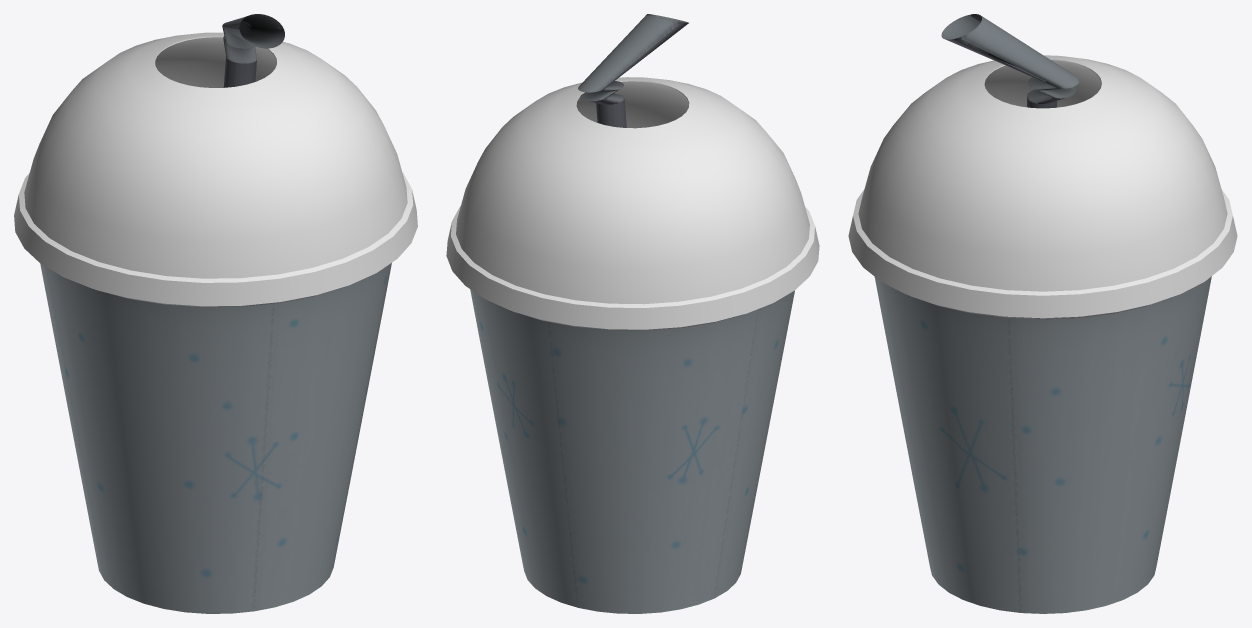
File: BasoGranizado.fbx
3 renders of one model, left to right at view 1: azimuth 30°, elevation 25°; view 2: azimuth 150°, elevation 25°; view 3: azimuth 270°, elevation 25°, orthographic. The views are drawn at different scales.
Visible parts, largest first — view 1: CUP, TapaCUP, Pajita; view 2: CUP, TapaCUP, Pajita; view 3: CUP, TapaCUP, Pajita.
Boxes of the visible parts, left/top/right/bottom form: CUP: left=40, top=263, right=391, bottom=613; TapaCUP: left=14, top=32, right=417, bottom=306; Pajita: left=222, top=14, right=284, bottom=87; CUP: left=470, top=289, right=794, bottom=613; TapaCUP: left=446, top=77, right=819, bottom=329; Pajita: left=578, top=14, right=688, bottom=127; CUP: left=874, top=276, right=1211, bottom=613; TapaCUP: left=848, top=55, right=1237, bottom=318; Pajita: left=941, top=14, right=1079, bottom=108.
Bounding box in the file's own units: 211 × 328 × 211.
